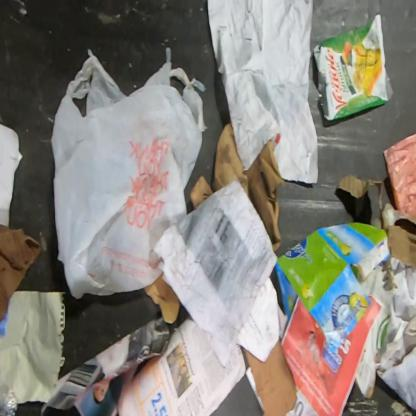cardboard: (275, 223, 390, 354), (190, 122, 283, 250), (337, 173, 415, 272), (244, 338, 297, 416), (1, 224, 42, 324)
rigid_plastic: (0, 378, 18, 416)
soft_plastic: (51, 48, 205, 300), (313, 12, 391, 123), (383, 133, 415, 216)
